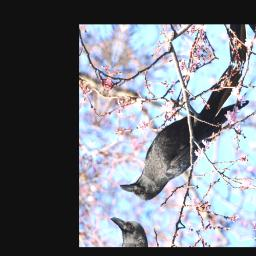Crow: (117, 40, 256, 228)
